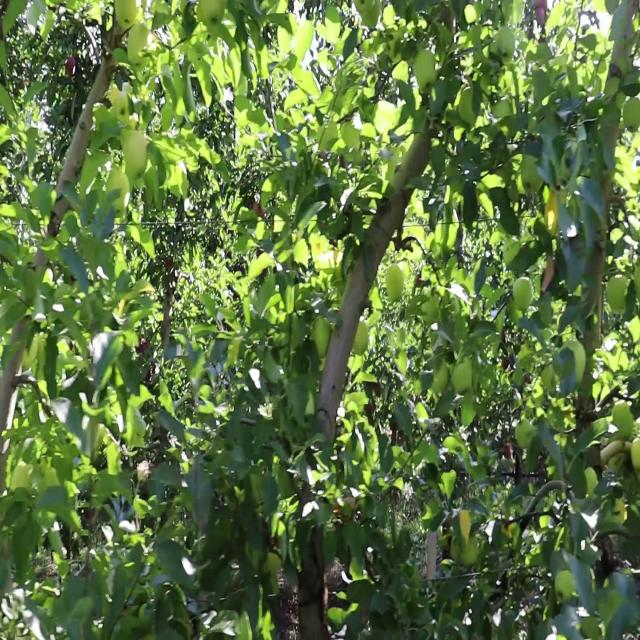apple: (413, 47, 439, 98), (448, 352, 477, 396), (105, 169, 130, 220), (490, 88, 517, 135), (122, 130, 148, 178), (126, 22, 149, 71), (456, 83, 480, 128), (426, 354, 448, 400), (563, 340, 587, 382), (511, 414, 535, 455), (554, 566, 576, 606), (608, 274, 629, 315), (612, 399, 634, 438), (312, 316, 331, 358), (385, 262, 404, 304), (199, 0, 223, 33), (512, 277, 534, 312), (495, 27, 516, 61), (113, 0, 137, 27), (623, 96, 640, 134), (628, 430, 640, 482), (111, 91, 128, 126), (354, 322, 369, 357), (354, 0, 374, 11)
